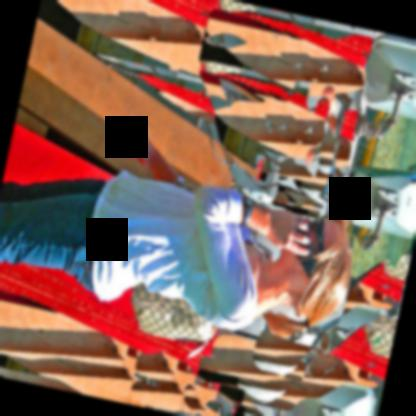handbag: (130, 279, 216, 341)
